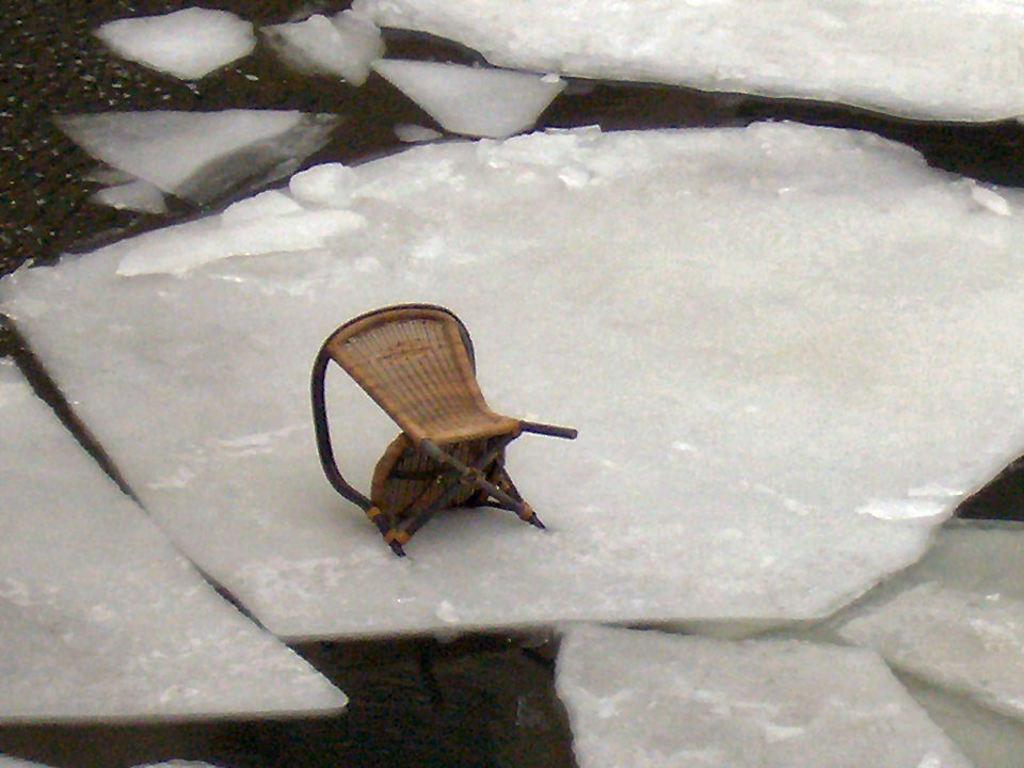Chair: (313, 297, 576, 555)
